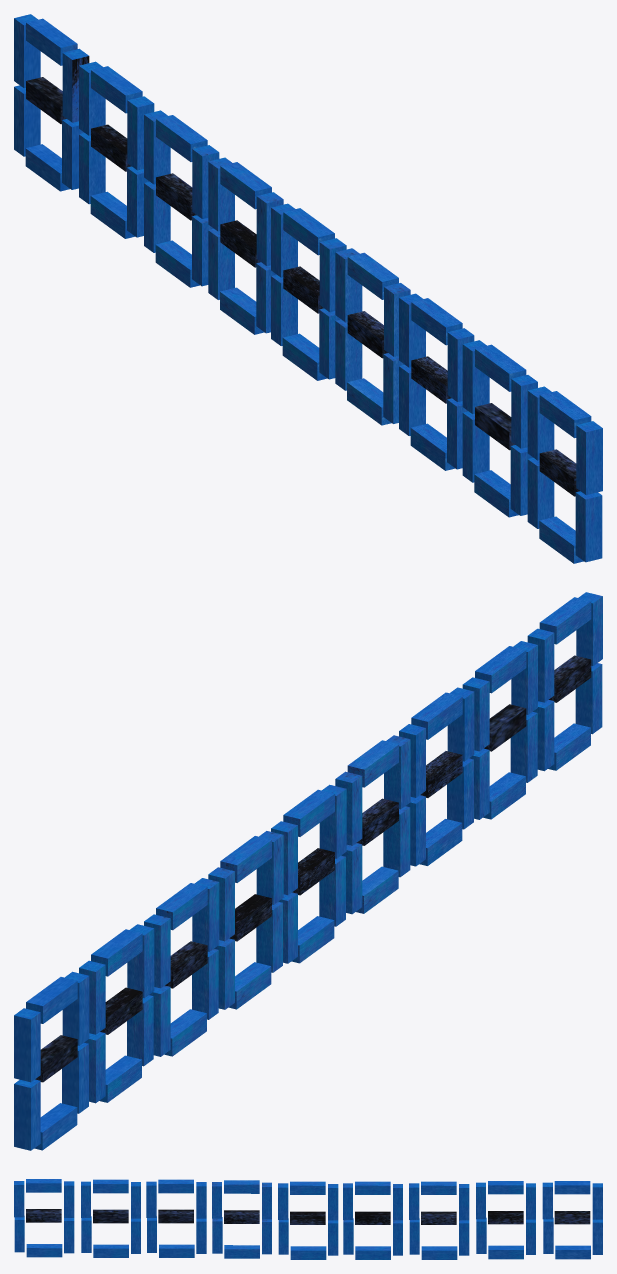
Rendered from display0.obj.
3 views of the same model, one above another, from view 1: azimuth 30°, elevation 25°; view 2: azimuth 150°, elevation 25°; view 3: azimuth 270°, elevation 25° (orthographic). The views are drawn at different scales.
Visible parts, largest first — view 1: Display; view 2: Display; view 3: Display.
Part boxes in pixels (x1,y1,x2,y2): Display: [14, 14, 602, 563]; Display: [14, 592, 602, 1150]; Display: [14, 1179, 602, 1259].
Size of the model in its own units: 0.1524 by 1.28 by 8.93.
Materials: 1 (1 with a texture image).
